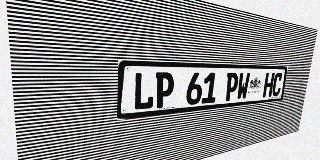1: (201, 72, 218, 104)
6: (186, 72, 204, 105)
C: (271, 73, 283, 97)
H: (262, 73, 275, 97)
L: (133, 72, 155, 111)
P: (154, 72, 175, 108), (224, 73, 239, 101)
W: (236, 73, 250, 100)
